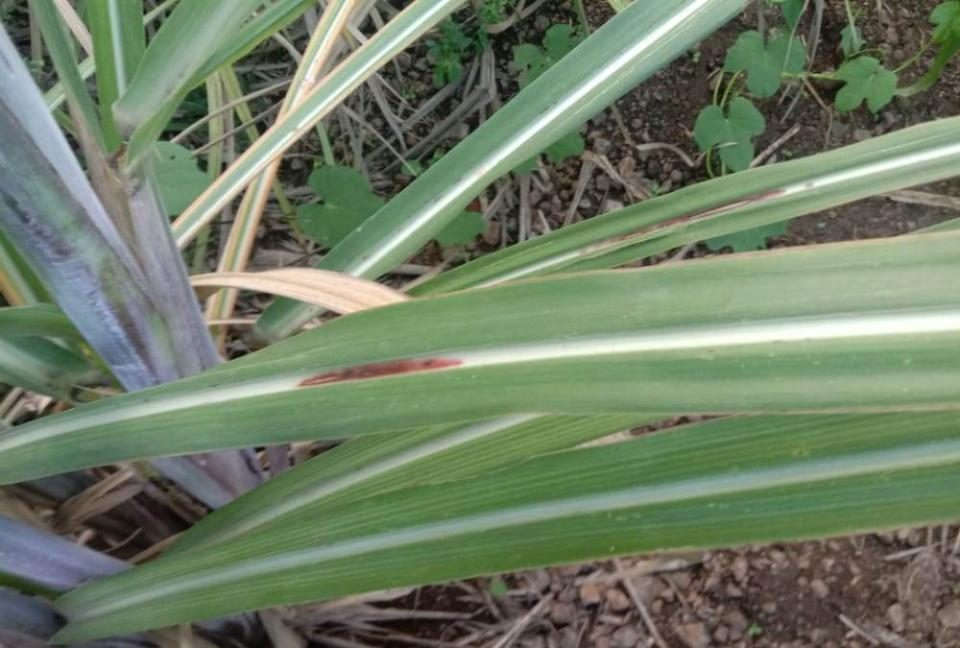RedRot: (580, 189, 787, 254), (293, 358, 464, 388)
